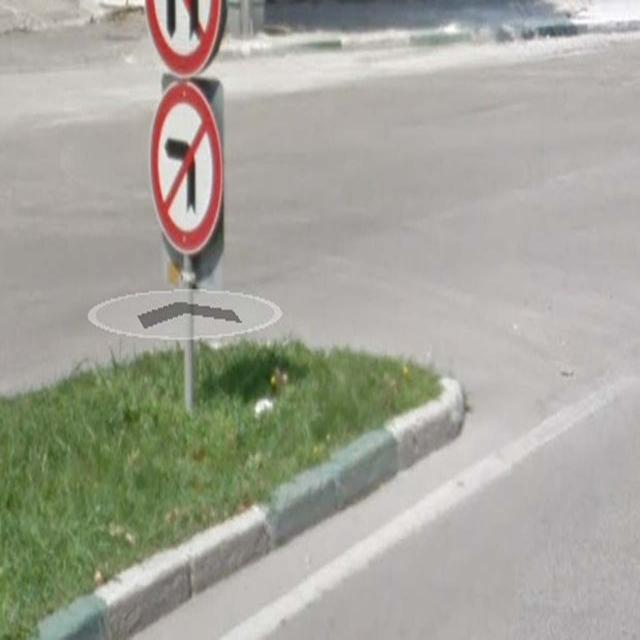soladonulmez: (149, 80, 225, 256)
